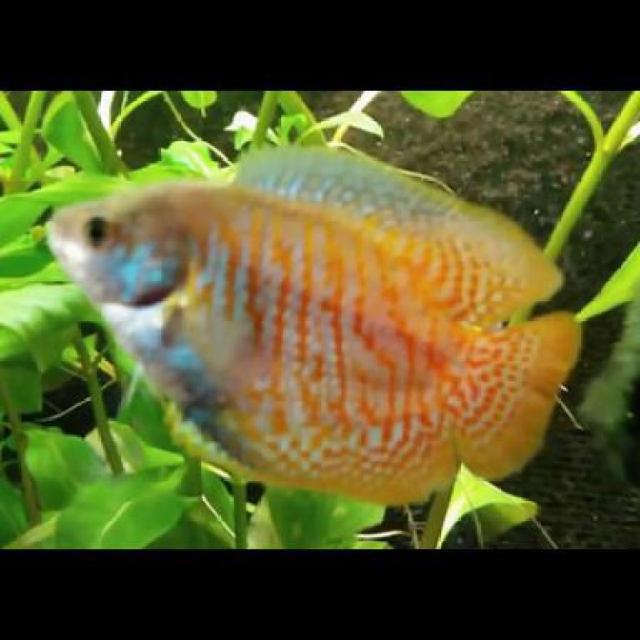Gourami: (38, 130, 577, 507)
